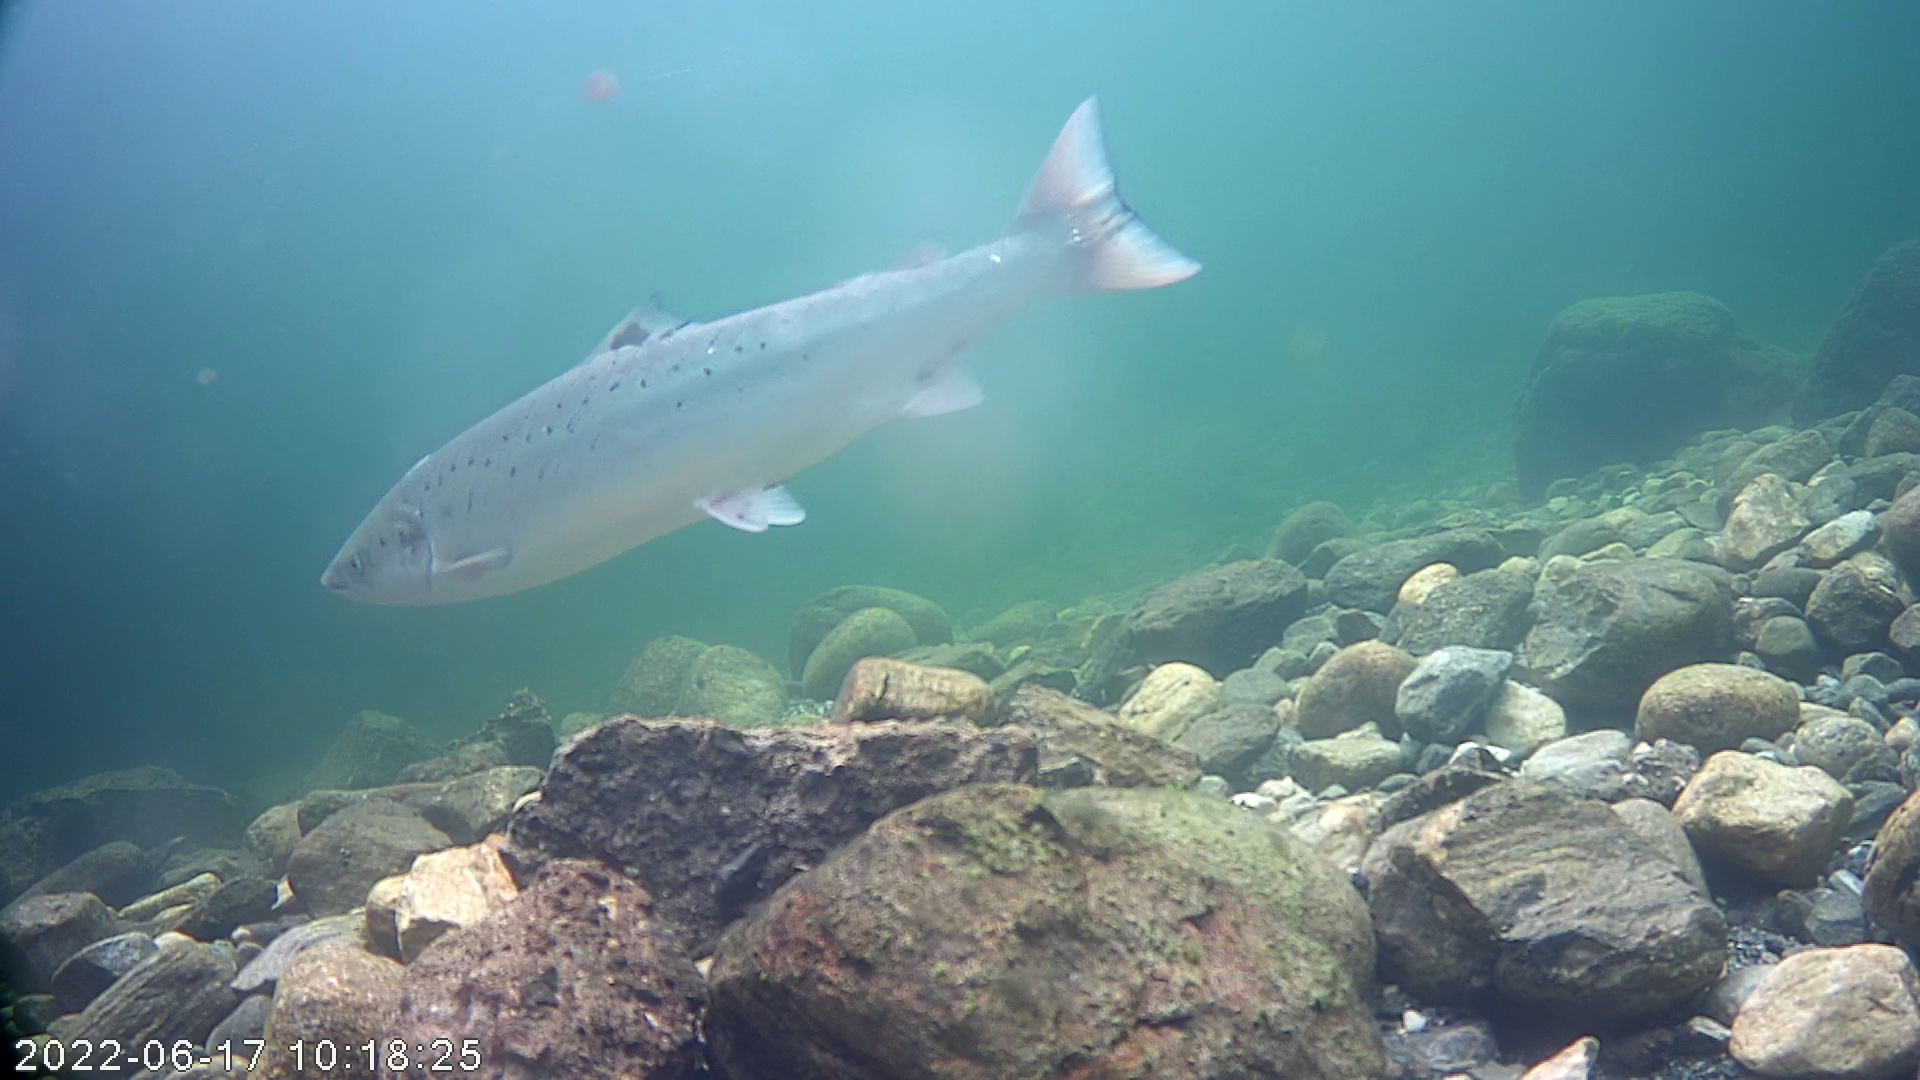salmon: (314, 88, 1203, 609)
